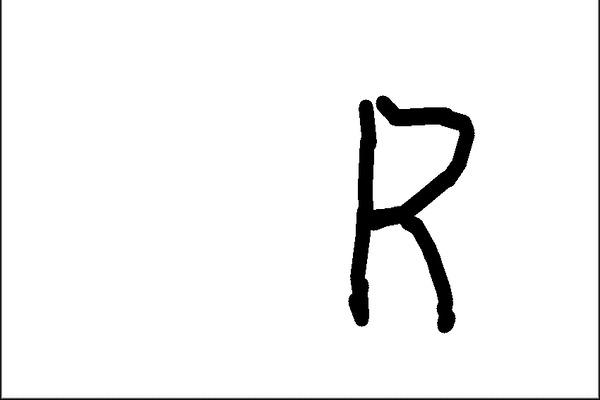R: (349, 88, 478, 338)
